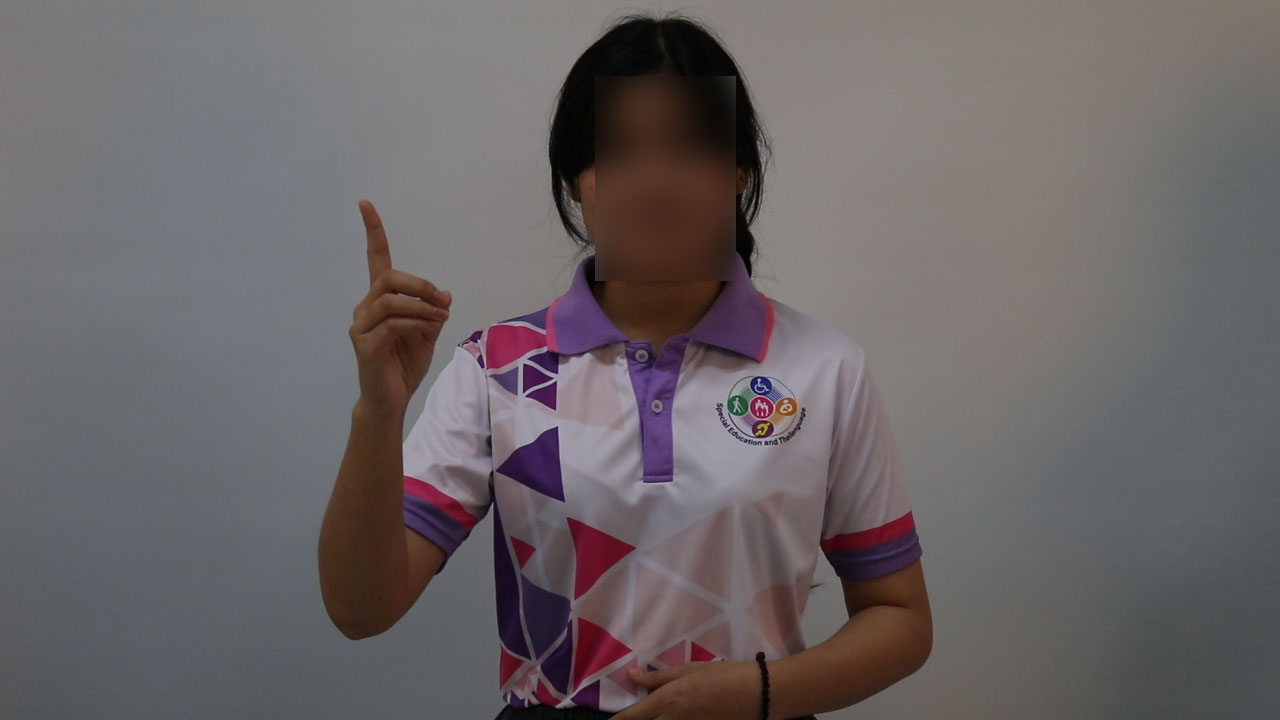dor: (323, 191, 460, 410)
